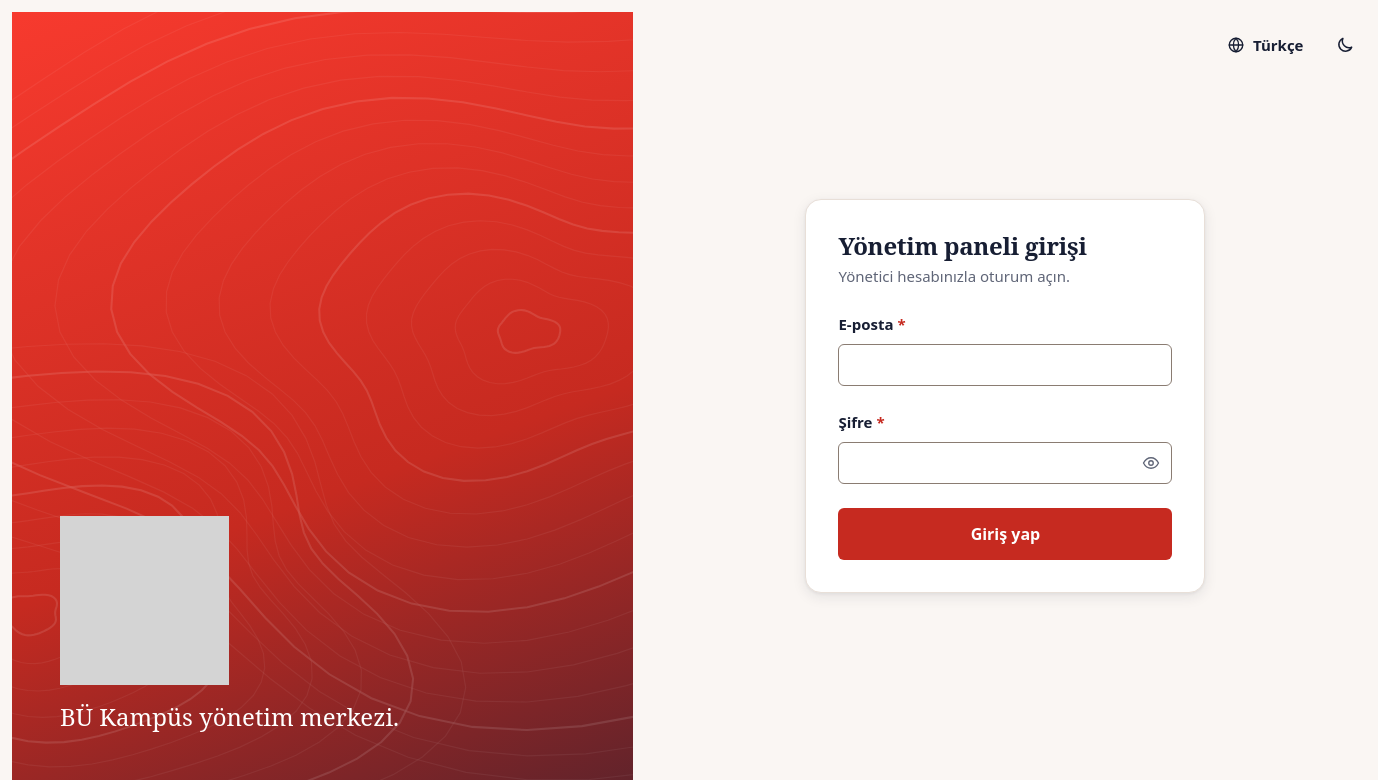
Test: giriş sayfası › yanlış şifrede INVALID_CREDENTIALS mesajı çıkar, boş alanlar doğrulanır
Click the button "Giriş yap": (1005, 534) 838,508 -> 1172,560
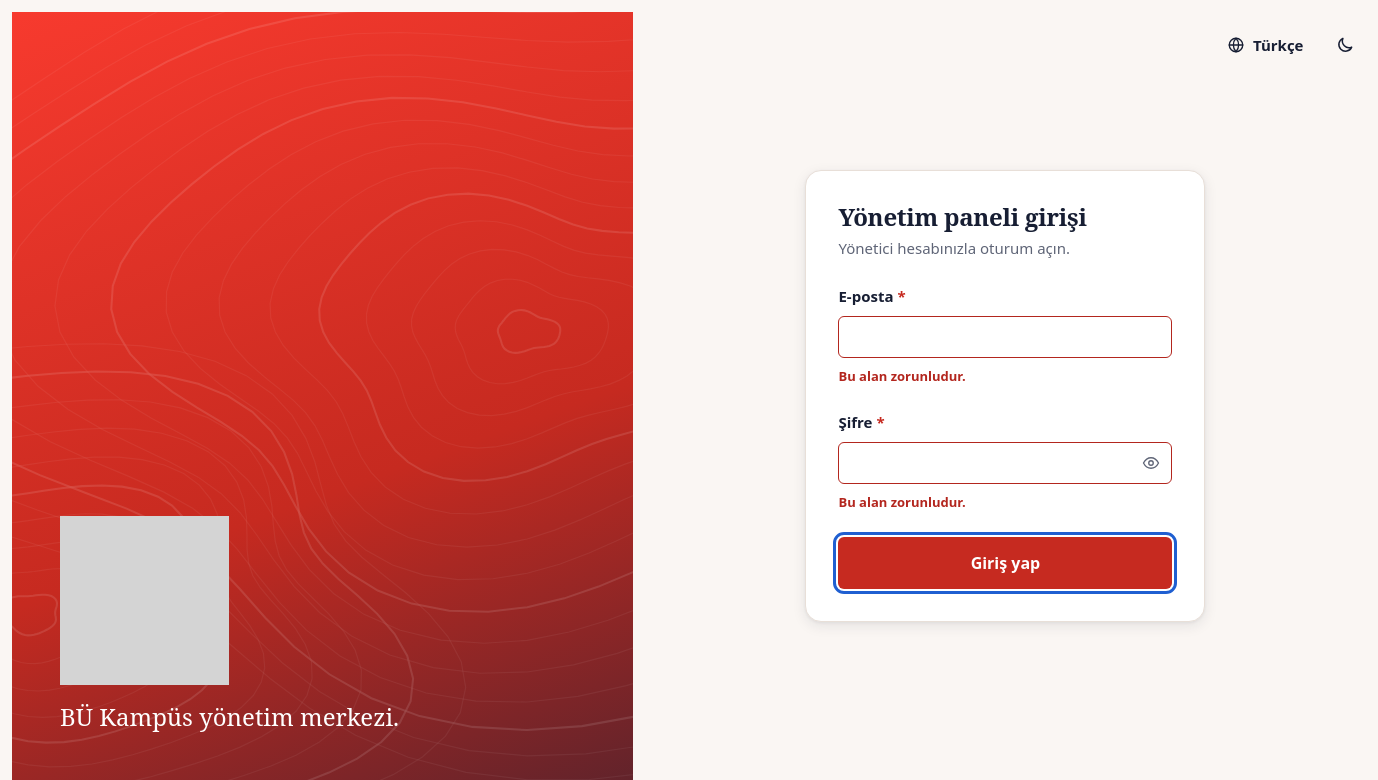
Result: the text "Bu alan zorunludur." is shown 2 times at 838,367 -> 966,385; 838,493 -> 966,511
In the field labelled "E-posta *": (1005, 337) 838,316 -> 1172,358, type "x@bingol.edu.tr"
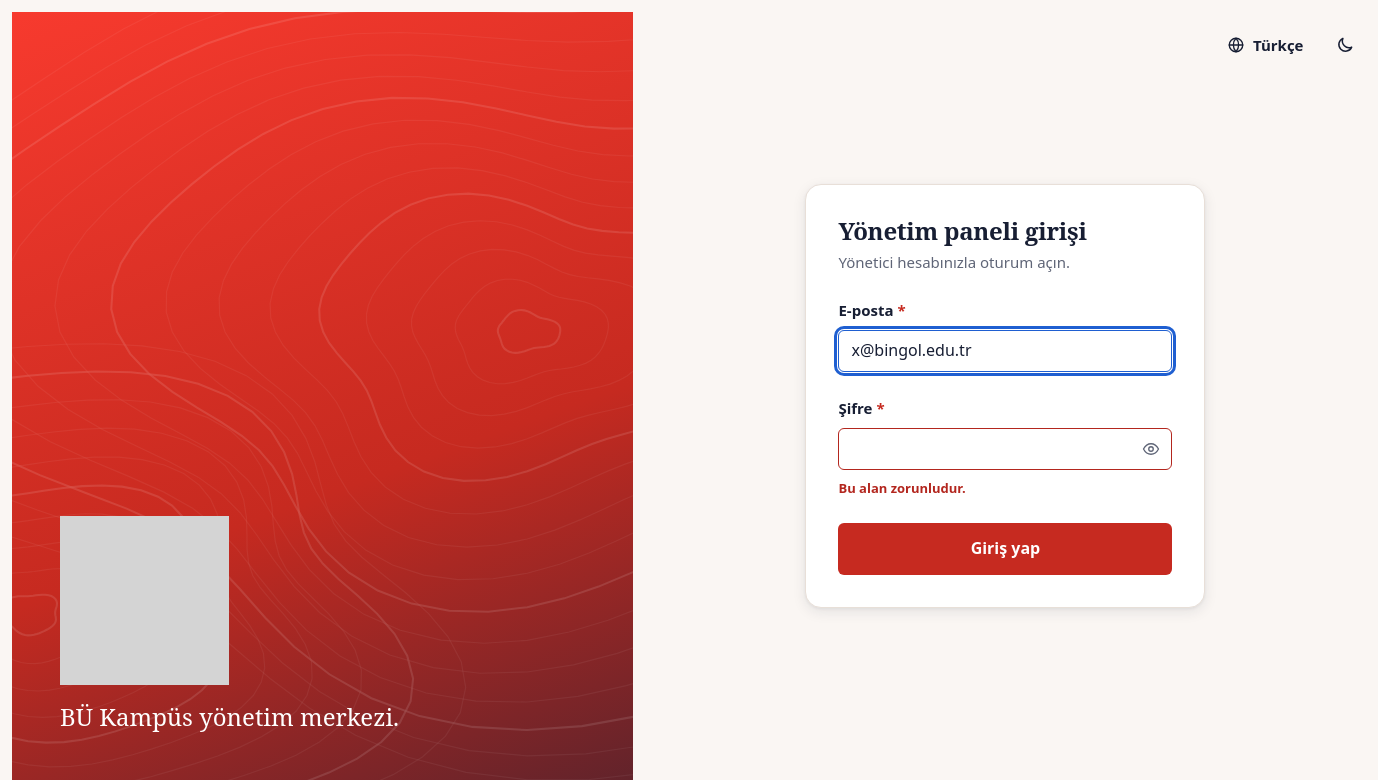
In the password field labelled "Şifre *": (1005, 449) 838,428 -> 1172,470, type "yanlis"
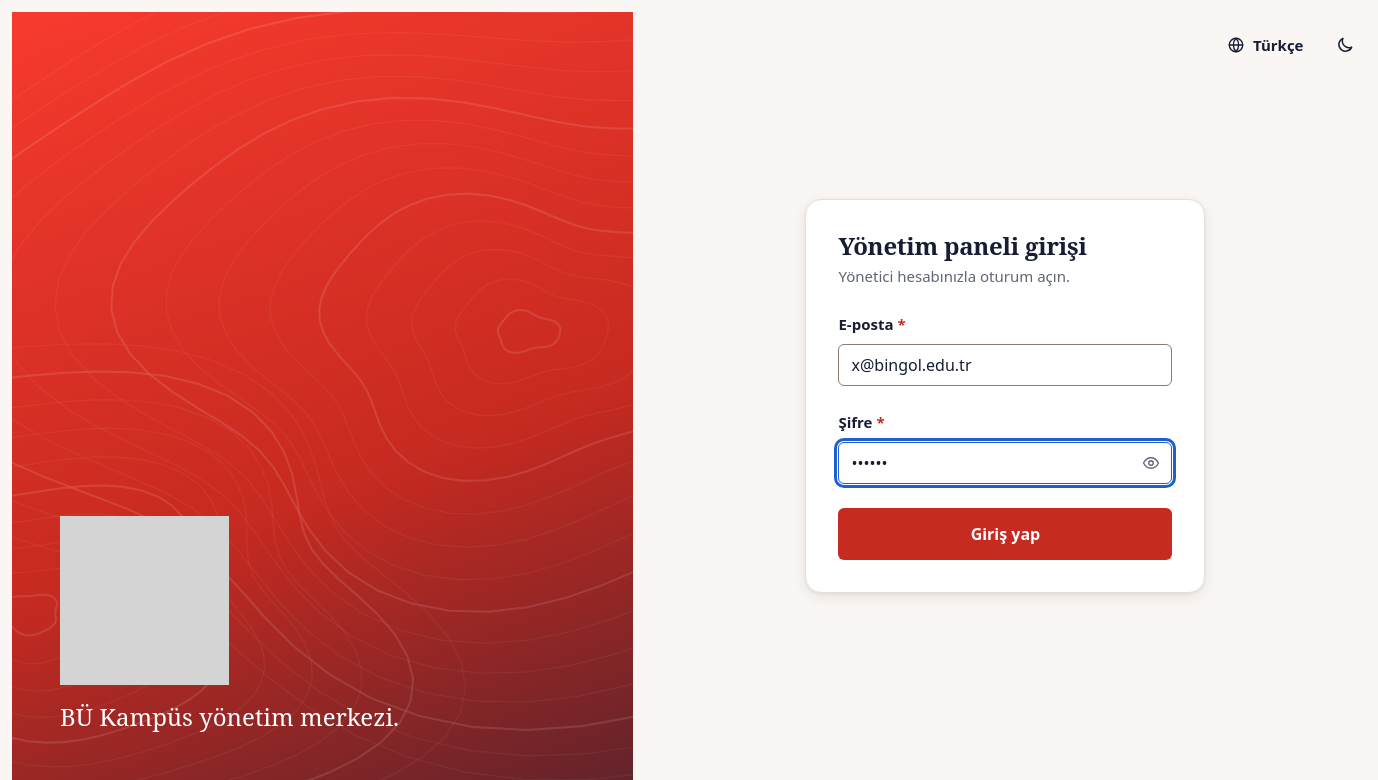
Click the button "Giriş yap": (1005, 534) 838,508 -> 1172,560
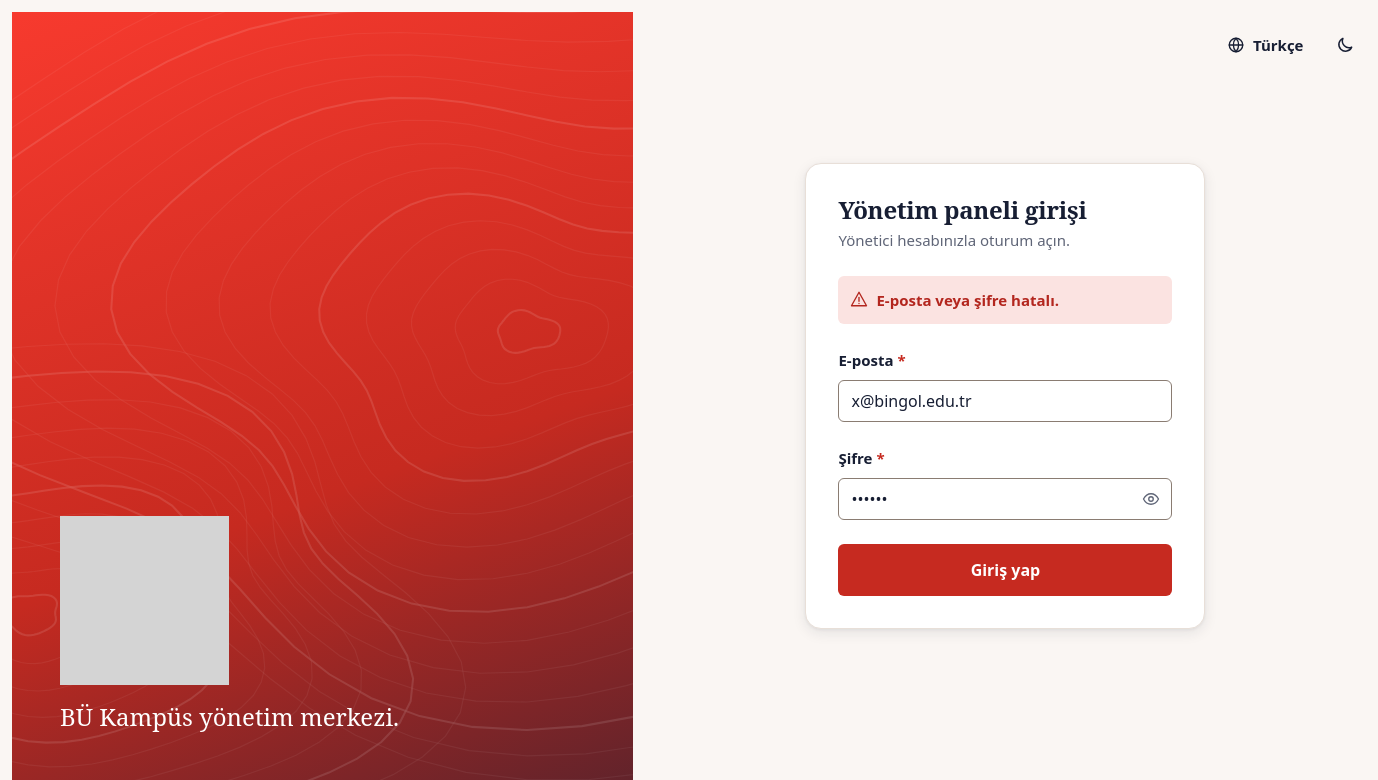
Result: the text "E-posta veya şifre hatalı." is shown at 876,288 -> 1059,312
